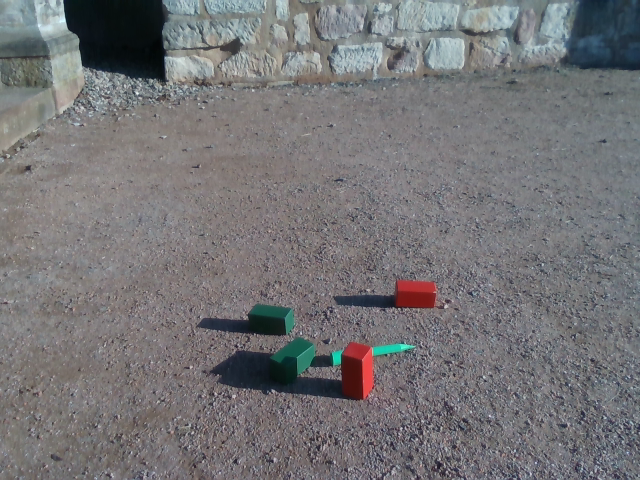Probe: (328, 341, 419, 364)
